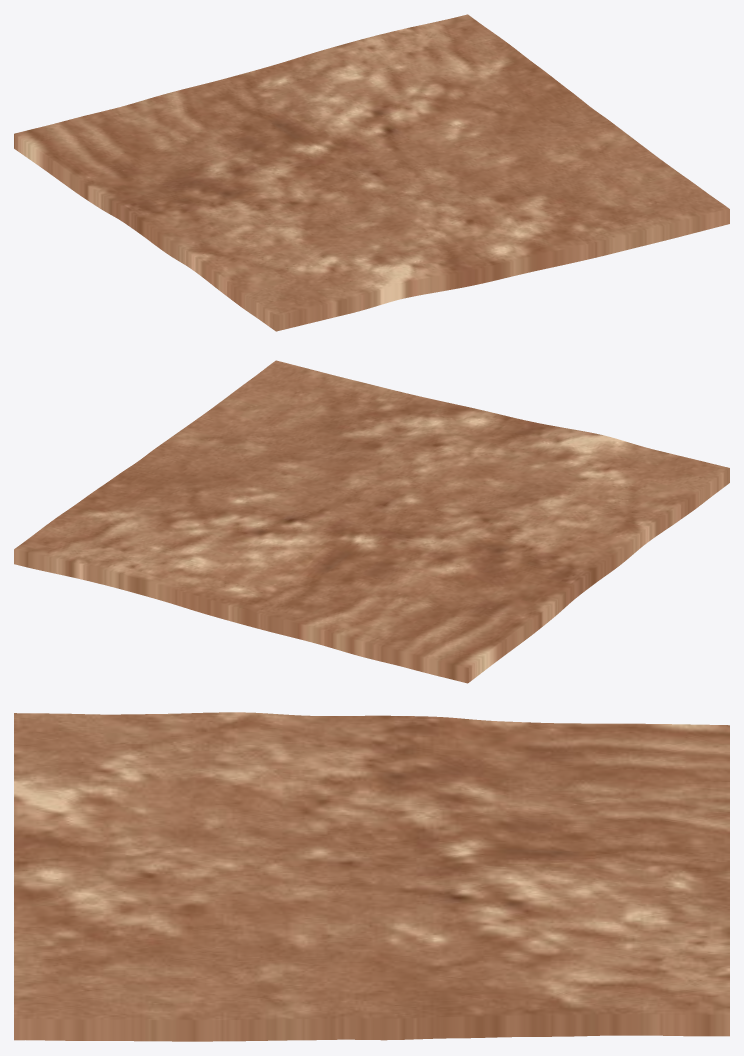
The picture shows the model from 3 angles, top to bottom: view 1: azimuth 30°, elevation 25°; view 2: azimuth 150°, elevation 25°; view 3: azimuth 270°, elevation 25°; orthographic projection. The views are drawn at different scales.
Parts seen in each view (by area): view 1: L8_147_106; view 2: L8_147_106; view 3: L8_147_106.
Part boxes in pixels (x1=…): L8_147_106: x1=14, y1=14, x2=729, y2=331; L8_147_106: x1=14, y1=360, x2=729, y2=683; L8_147_106: x1=14, y1=712, x2=729, y2=1041.
Bounding box in the file's own units: 56.27 × 3.07 × 56.28.
1 material, 1 textured.
